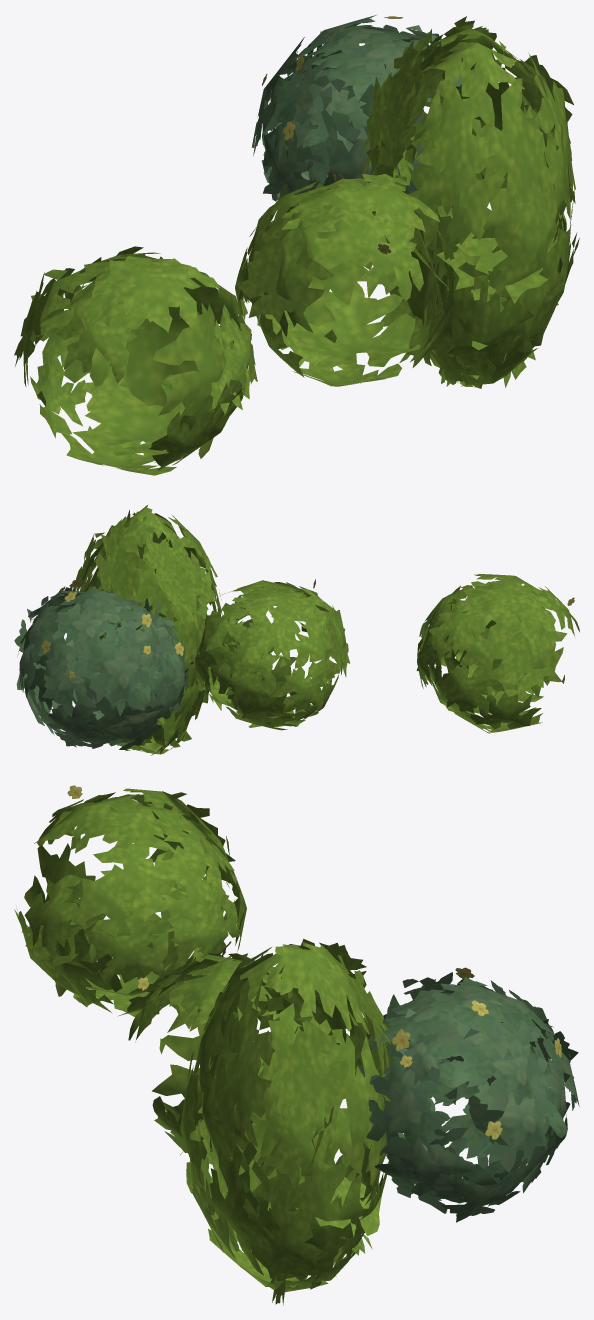
File: pref_sm_beach_bk_pointmol_grassplant02a_lv1.fbx
The picture shows the model from 3 angles, top to bottom: view 1: azimuth 30°, elevation 25°; view 2: azimuth 150°, elevation 25°; view 3: azimuth 270°, elevation 25°; orthographic projection. The views are drawn at different scales.
Parts seen in each view (by area): view 1: pref_sm_beach_bk_pointmol_grassplant02a_lv1; view 2: pref_sm_beach_bk_pointmol_grassplant02a_lv1; view 3: pref_sm_beach_bk_pointmol_grassplant02a_lv1.
Part boxes in pixels (box(x1,y1,x2,y2)): pref_sm_beach_bk_pointmol_grassplant02a_lv1: box(14, 14, 579, 475); pref_sm_beach_bk_pointmol_grassplant02a_lv1: box(14, 505, 579, 755); pref_sm_beach_bk_pointmol_grassplant02a_lv1: box(14, 785, 579, 1305).
Size of the model in its own units: 8.26 by 4.51 by 6.58.
